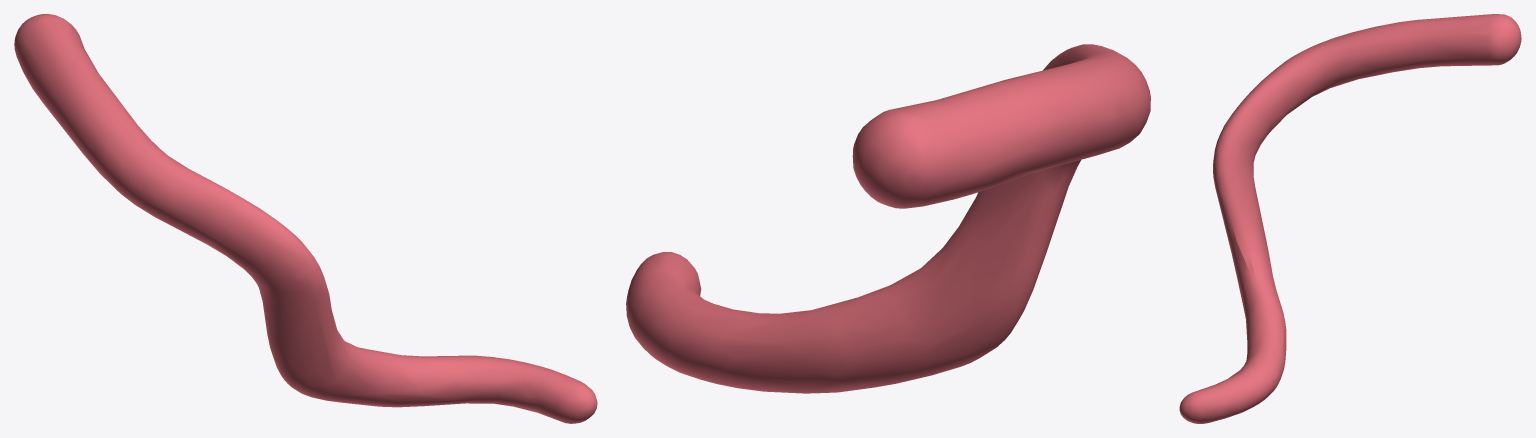
The model's file is fma51293_fj5005.glb.
The picture shows the model from 3 angles, left to right: view 1: azimuth 30°, elevation 25°; view 2: azimuth 150°, elevation 25°; view 3: azimuth 270°, elevation 25°; orthographic projection. The views are drawn at different scales.
Parts seen in each view (by area): view 1: FMA51293_FJ5005; view 2: FMA51293_FJ5005; view 3: FMA51293_FJ5005.
Boxes of the visible parts, x1,y1,x2,y2 form: FMA51293_FJ5005: (14, 14, 597, 423); FMA51293_FJ5005: (626, 44, 1150, 393); FMA51293_FJ5005: (1179, 14, 1521, 423).
Size of the model in its own units: 0.036 by 0.0299 by 0.0335.
